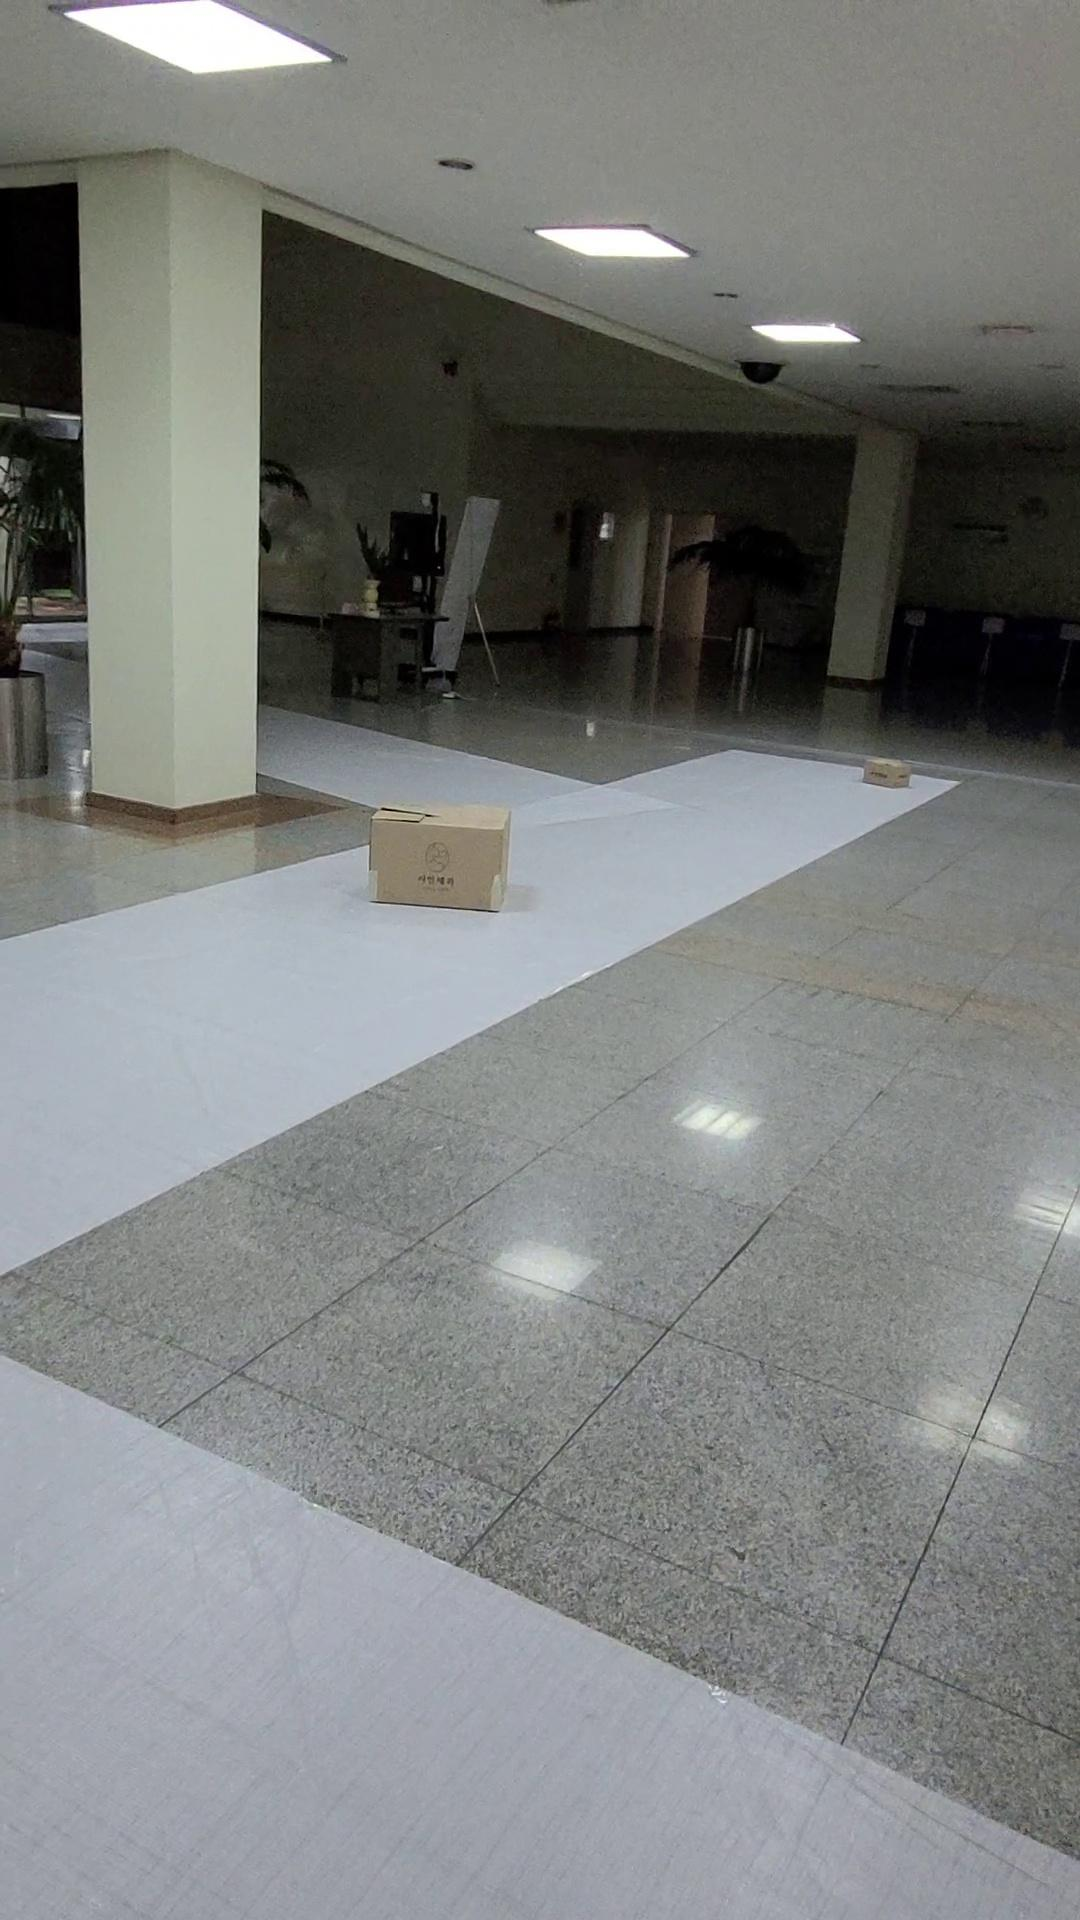Box: (353, 783, 527, 924), (861, 745, 922, 796)
